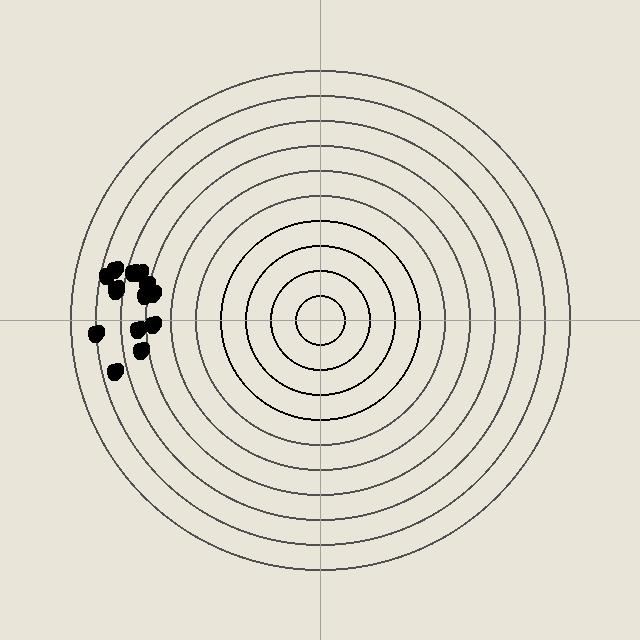good_group: (142, 314, 162, 334), (104, 259, 124, 279), (85, 323, 105, 343), (129, 262, 149, 282), (122, 262, 142, 282), (134, 285, 154, 305), (136, 274, 156, 294), (96, 265, 116, 285), (105, 278, 125, 298), (104, 361, 124, 381), (127, 319, 147, 339), (142, 283, 162, 303), (105, 280, 125, 300), (130, 340, 150, 360)
